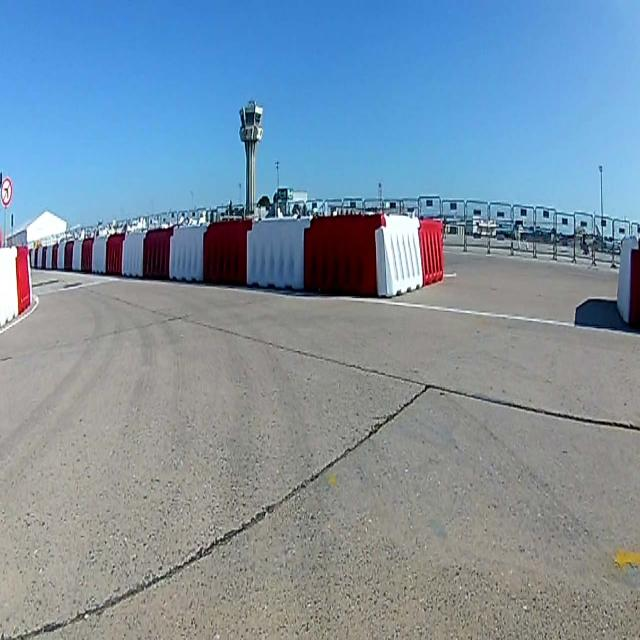soladonulmez: (2, 176, 12, 205)
